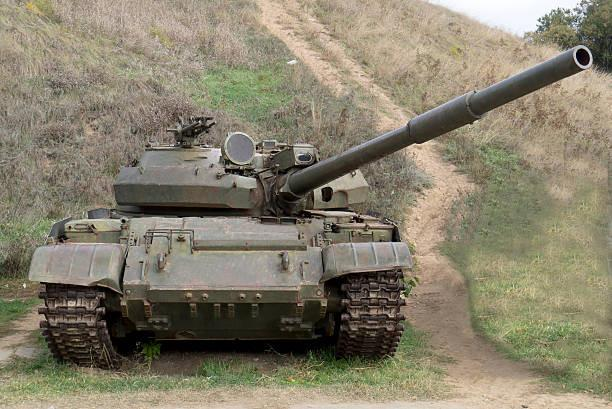tank: (31, 46, 593, 364)
